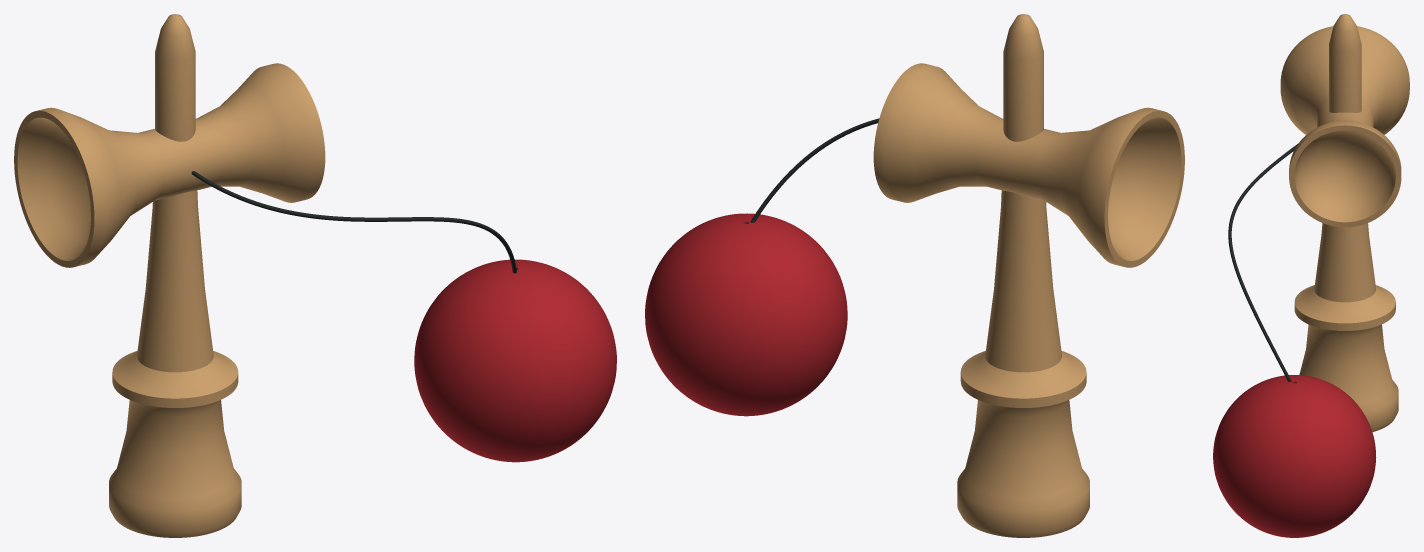
The picture shows the model from 3 angles, left to right: view 1: azimuth 30°, elevation 25°; view 2: azimuth 150°, elevation 25°; view 3: azimuth 270°, elevation 25°; orthographic projection. The views are drawn at different scales.
Visible parts, largest first — view 1: Ken_body_base_cup_and_spike, Sarado_side_cups, Tama_ball_with_through_bore, Illustrative_flexible_cord; view 2: Ken_body_base_cup_and_spike, Sarado_side_cups, Tama_ball_with_through_bore, Illustrative_flexible_cord; view 3: Tama_ball_with_through_bore, Sarado_side_cups, Ken_body_base_cup_and_spike, Illustrative_flexible_cord.
Part boxes in pixels (x1,y1,x2,y2): Ken_body_base_cup_and_spike: [109, 14, 241, 537]; Sarado_side_cups: [14, 63, 325, 267]; Tama_ball_with_through_bore: [414, 259, 616, 462]; Illustrative_flexible_cord: [191, 171, 516, 273]; Ken_body_base_cup_and_spike: [957, 14, 1089, 537]; Sarado_side_cups: [873, 63, 1184, 267]; Tama_ball_with_through_bore: [645, 213, 847, 416]; Illustrative_flexible_cord: [750, 118, 879, 222]; Tama_ball_with_through_bore: [1213, 375, 1376, 537]; Sarado_side_cups: [1280, 26, 1409, 227]; Ken_body_base_cup_and_spike: [1294, 14, 1398, 431]; Illustrative_flexible_cord: [1228, 144, 1297, 381].
Size of the model in its own units: 0.171 by 0.157 by 0.07.
